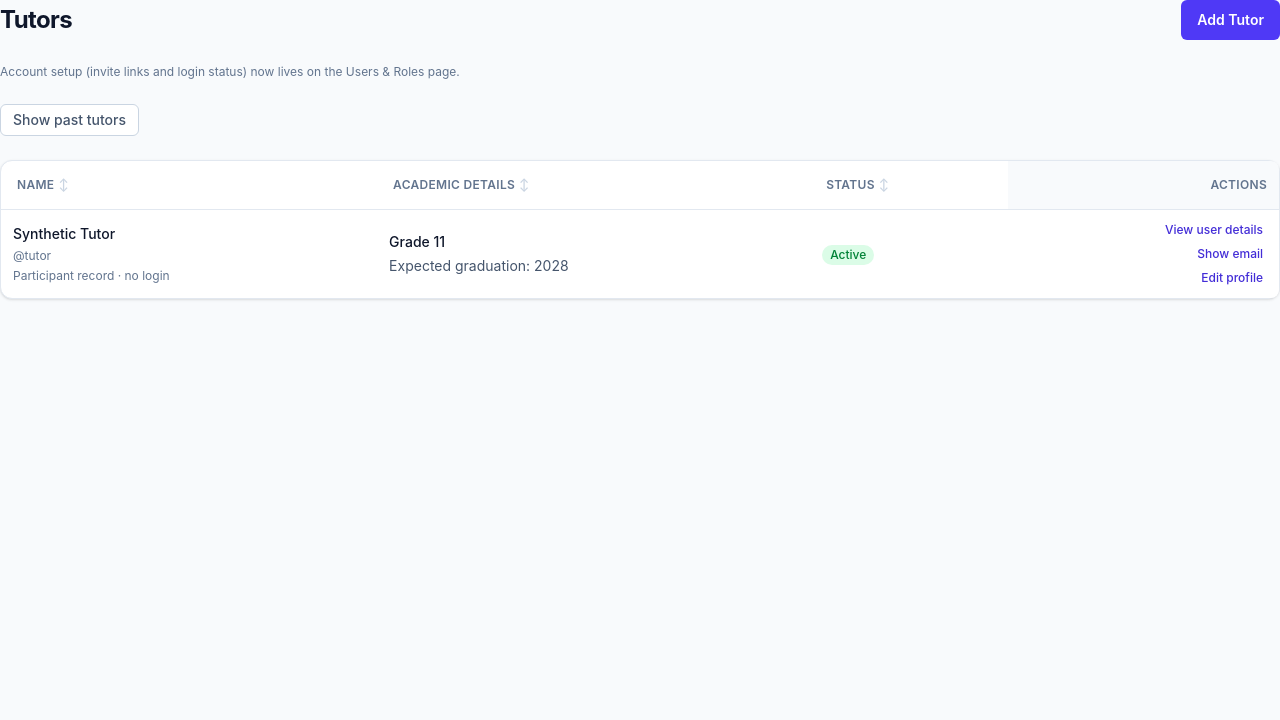
Test case: people summary tables › keeps Tutors brief and delays detailed profile queries until the final-column link opens
Check: the column heading "Actions" is shown, box [1008,161,1279,210]
Check: the text "Tutor alternate identity" is not shown
Click the button with aria-label "View user details for Synthetic Tutor".
click(1214, 230)  # box [1161,218,1267,242]
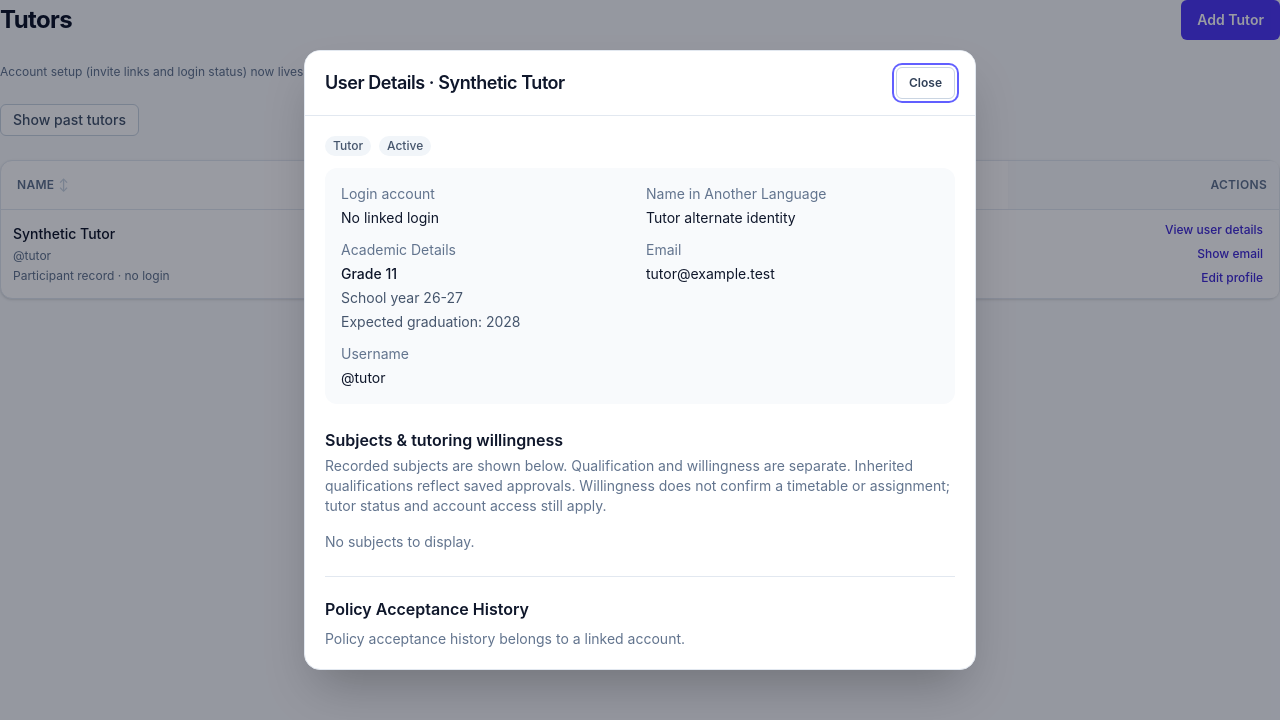
Check: the text "Tutor alternate identity" is shown, box [646,209,796,226]
